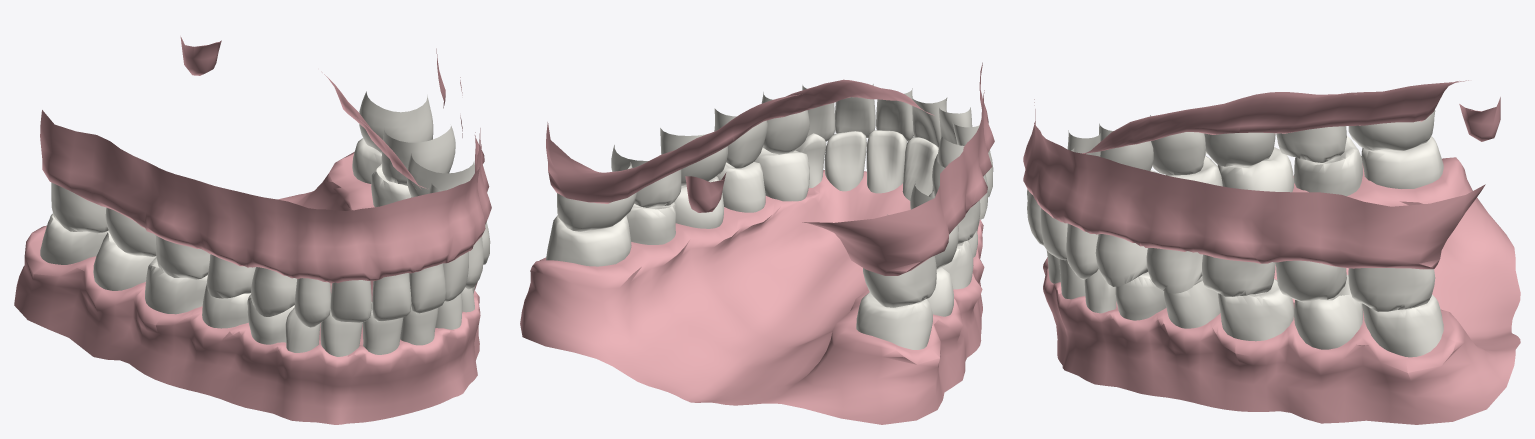
Rendered from jaw.glb.
The picture shows the model from 3 angles, left to right: view 1: azimuth 30°, elevation 25°; view 2: azimuth 150°, elevation 25°; view 3: azimuth 270°, elevation 25°; orthographic projection. The views are drawn at different scales.
Parts seen in each view (by area): view 1: lower_gum, upper_gum, upper_teeth, lower_teeth; view 2: lower_gum, lower_teeth, upper_gum, upper_teeth; view 3: lower_gum, upper_gum, upper_teeth, lower_teeth.
Boxes of the visible parts, left/top/right/bottom form: lower_gum: left=14, top=152, right=480, bottom=424; upper_gum: left=40, top=36, right=491, bottom=283; upper_teeth: left=51, top=91, right=490, bottom=327; lower_teeth: left=40, top=138, right=475, bottom=356; lower_gum: left=520, top=170, right=984, bottom=424; lower_teeth: left=546, top=130, right=979, bottom=349; upper_gum: left=546, top=62, right=994, bottom=275; upper_teeth: left=557, top=84, right=993, bottom=307; lower_gum: left=1043, top=157, right=1520, bottom=424; upper_gum: left=1023, top=80, right=1500, bottom=269; upper_teeth: left=1027, top=92, right=1435, bottom=311; lower_teeth: left=1046, top=136, right=1443, bottom=357.
Bounding box in the file's own units: 0.0687 × 0.0383 × 0.0694.
